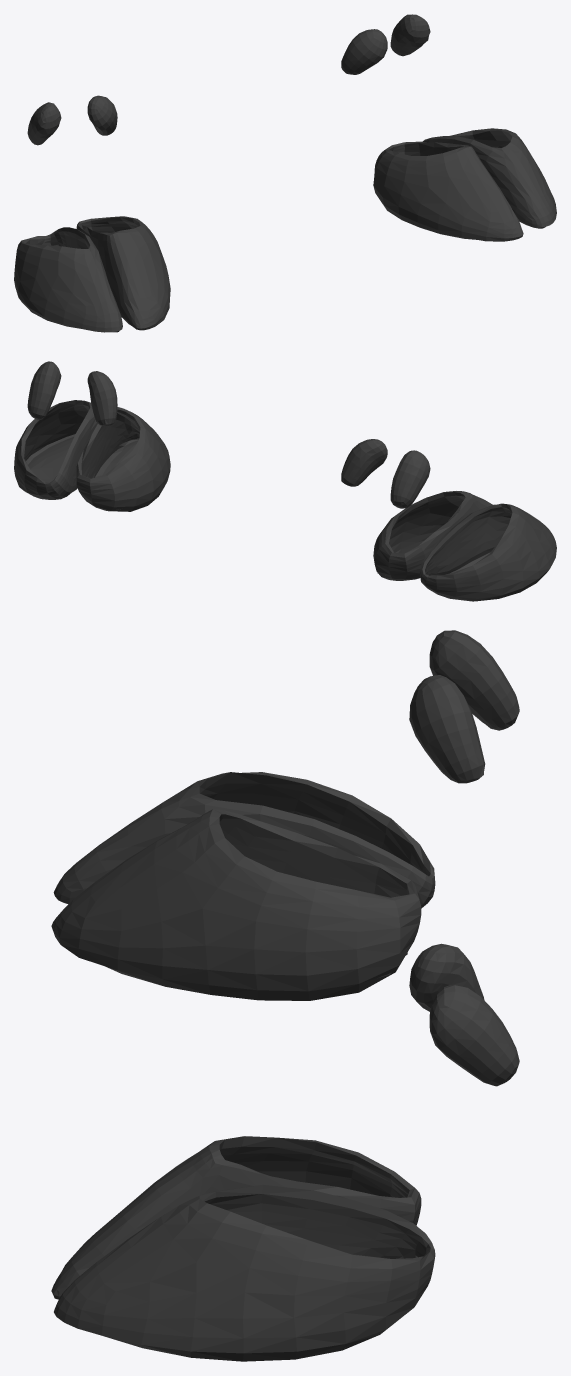
File: hooves_FL_001_LO.glb
3 renders of one model, top to bottom at view 1: azimuth 30°, elevation 25°; view 2: azimuth 150°, elevation 25°; view 3: azimuth 270°, elevation 25°, orthographic. The views are drawn at different scales.
Visible parts, largest first — view 1: hooves_FL_001_LO; view 2: hooves_FL_001_LO; view 3: hooves_FL_001_LO.
Boxes of the visible parts, x1=… form: hooves_FL_001_LO: x1=14, y1=14, x2=556, y2=332; hooves_FL_001_LO: x1=14, y1=361, x2=556, y2=601; hooves_FL_001_LO: x1=51, y1=630, x2=519, y2=1361.
Bounding box in the file's own units: 0.00431 × 0.00127 × 0.00171.
1 material, 1 textured.
